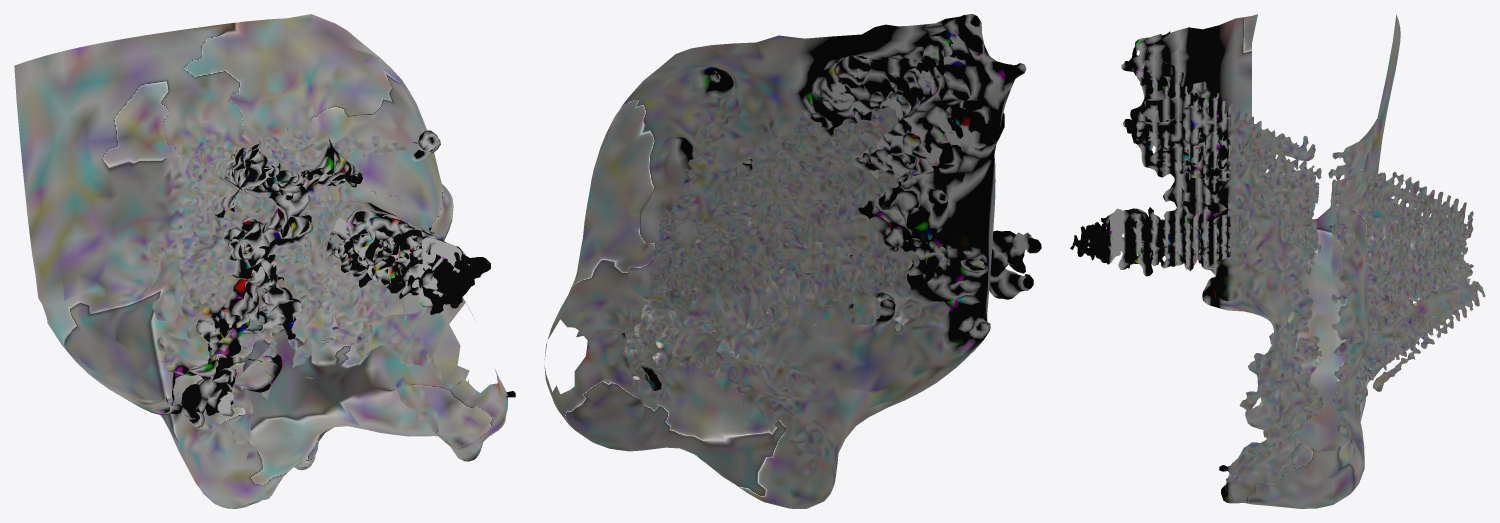
The picture shows the model from 3 angles, left to right: view 1: azimuth 30°, elevation 25°; view 2: azimuth 150°, elevation 25°; view 3: azimuth 270°, elevation 25°; orthographic projection. The views are drawn at different scales.
Size of the model in its own units: 11.9 by 12.44 by 12.32.
